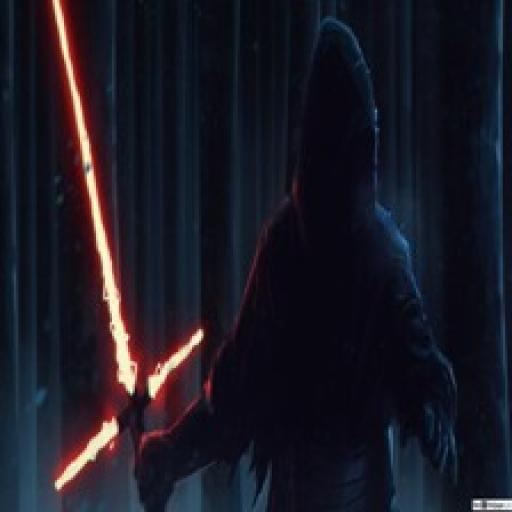human: (125, 19, 460, 512)
sith saber: (19, 0, 211, 512)
